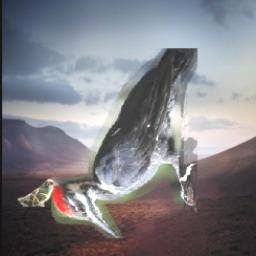Cuckoo: (17, 179, 57, 208)
Woodpecker: (51, 49, 197, 239)
